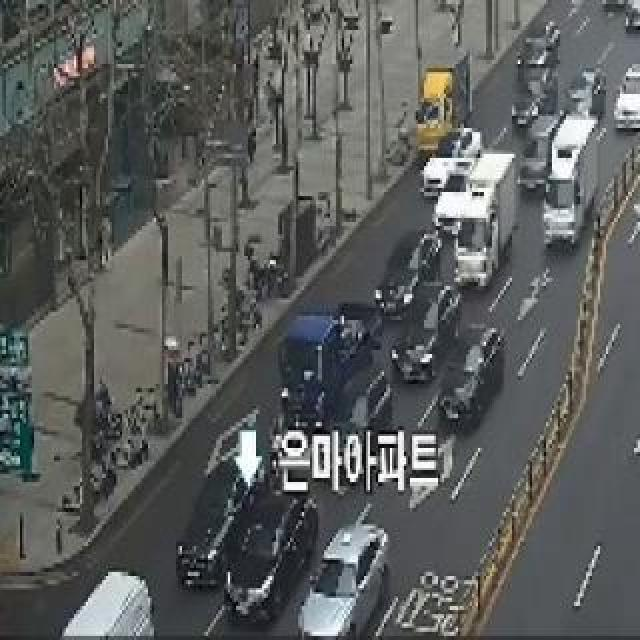truck: (279, 291, 385, 437), (453, 153, 527, 293), (542, 113, 600, 249), (415, 47, 475, 167)
